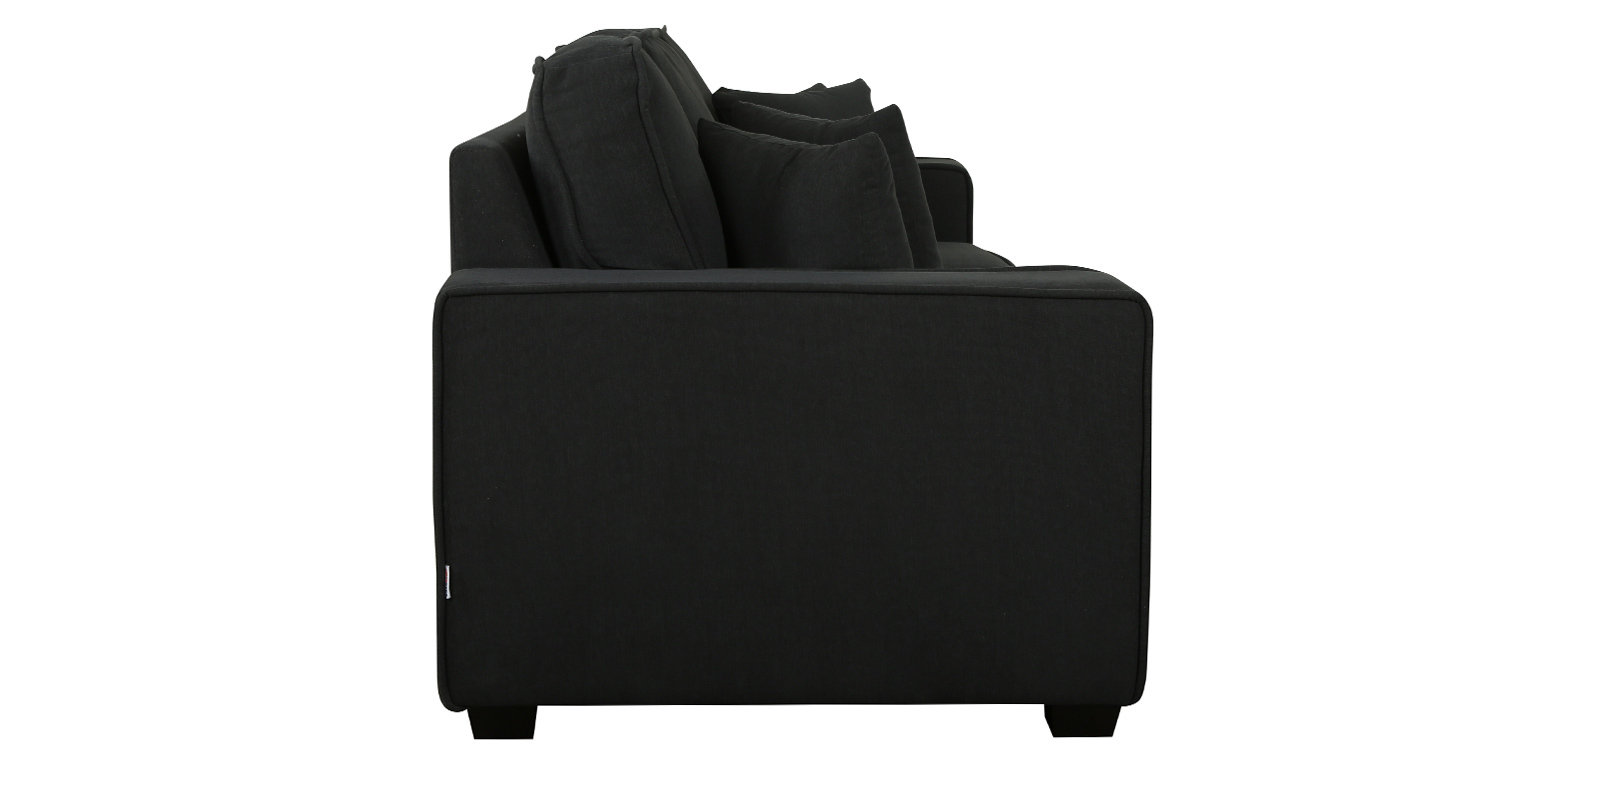Hugo Three Seater Sofa in Charcoal Grey Colour by CasaCraft: (413, 14, 1160, 751)
